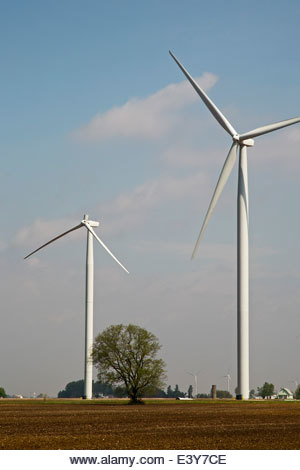faulty: (26, 210, 130, 273)
working: (165, 44, 276, 248)
